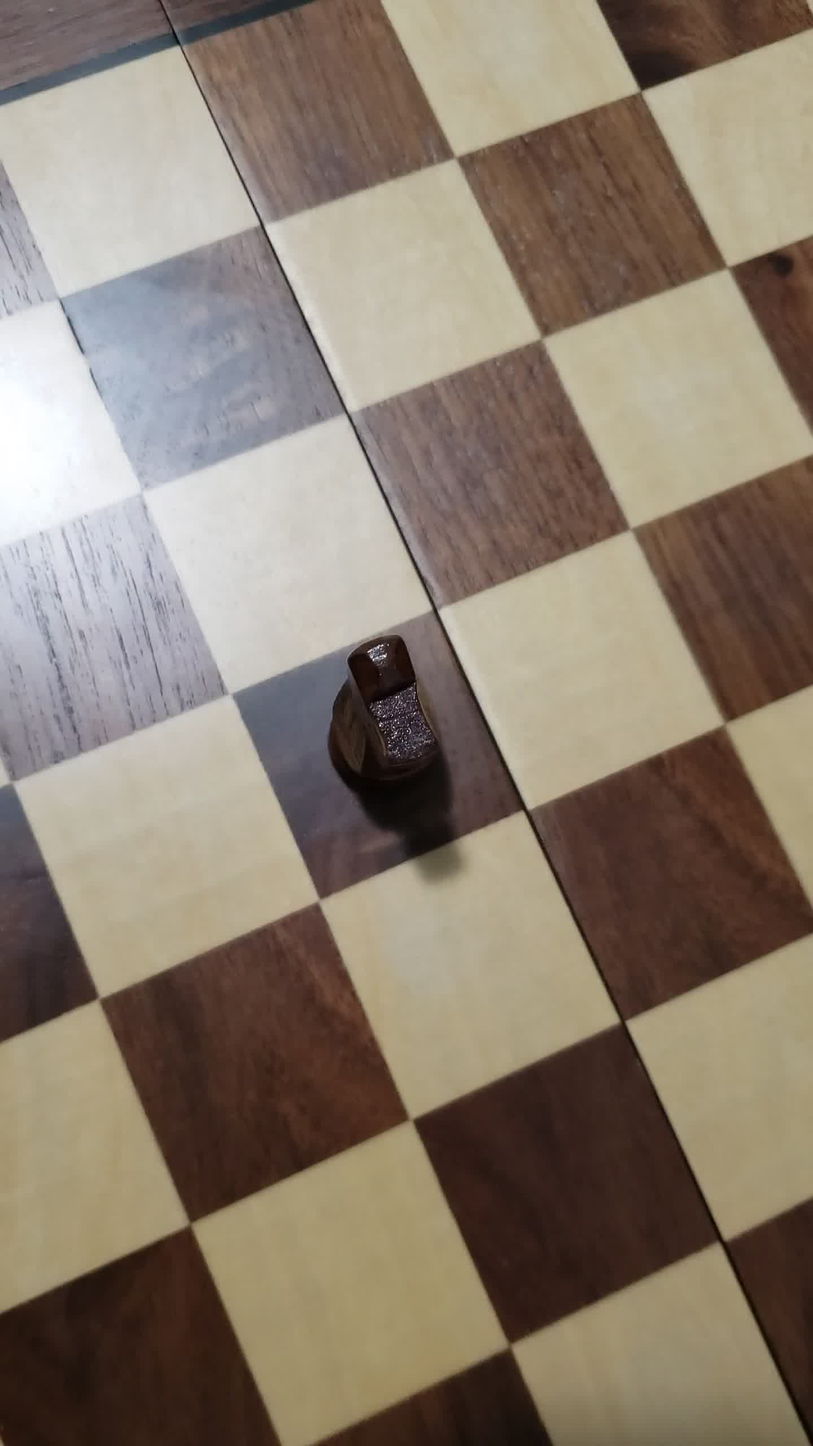black-knight: (279, 625, 500, 836)
